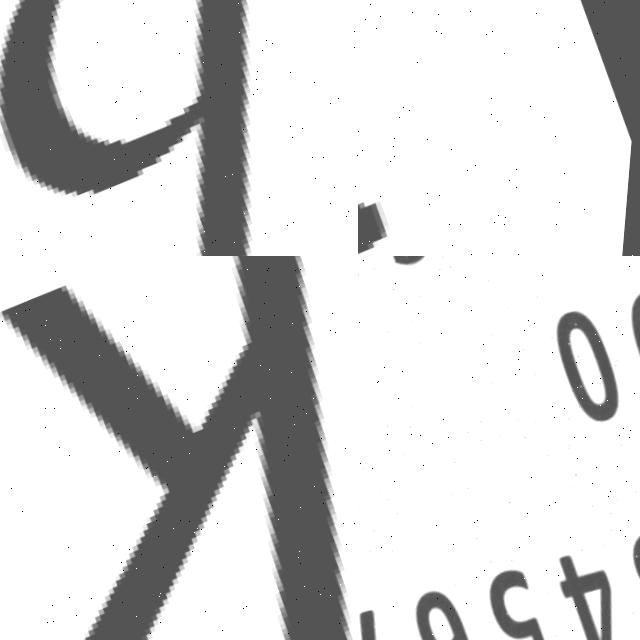0: (517, 283, 640, 458)
3: (602, 500, 640, 640)
4: (529, 524, 640, 640)
5: (449, 529, 610, 640)
6: (372, 541, 542, 640)
7: (358, 559, 472, 640)
9: (586, 256, 640, 437)
B: (0, 0, 254, 256)
I: (358, 0, 621, 256)
K: (0, 256, 358, 640)
